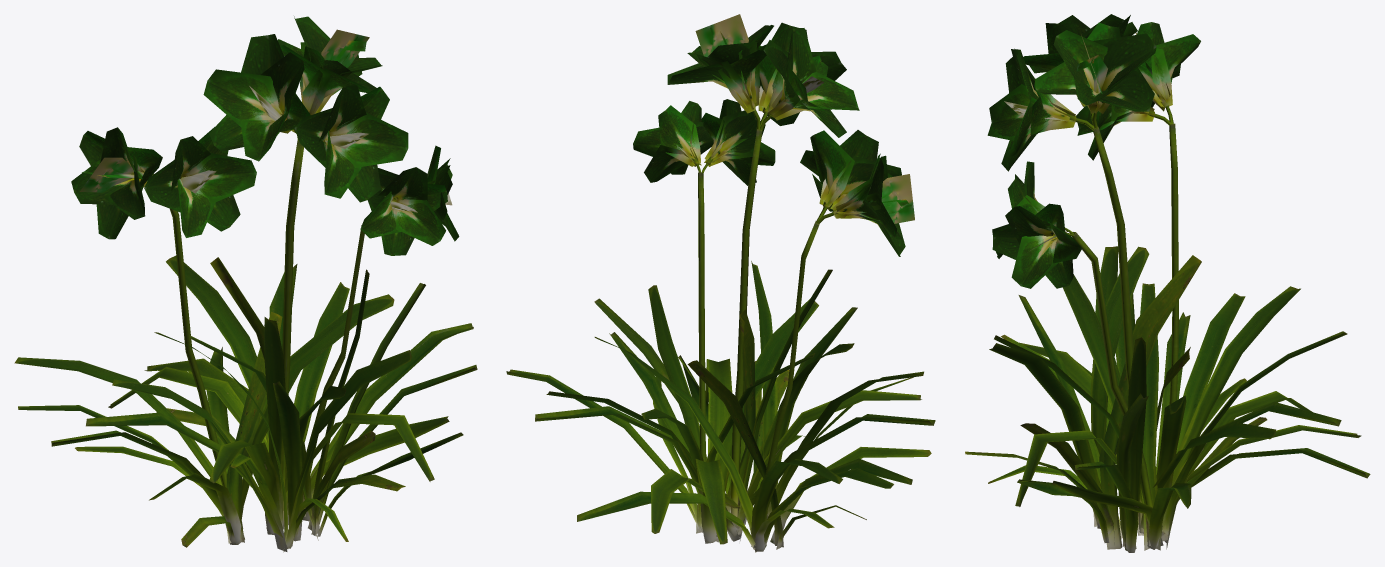
Rendered from Amaryllis_bush_long_greenyellow.glb.
The picture shows the model from 3 angles, left to right: view 1: azimuth 30°, elevation 25°; view 2: azimuth 150°, elevation 25°; view 3: azimuth 270°, elevation 25°; orthographic projection. The views are drawn at different scales.
Visible parts, largest first — view 1: bush; view 2: bush; view 3: bush.
Part boxes in pixels (<box>): bush: <box>14,16,477,552</box>; bush: <box>506,14,935,552</box>; bush: <box>965,14,1370,552</box>.
Size of the model in its own units: 2.94 by 3.42 by 2.41.
1 material, 1 textured.
